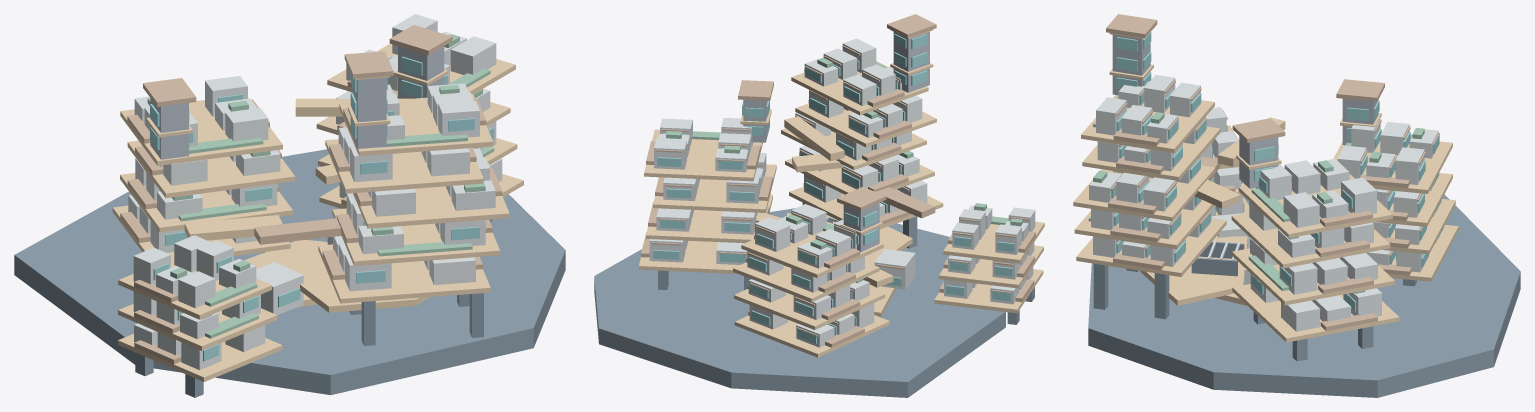
3 renders of one model, left to right at view 1: azimuth 30°, elevation 25°; view 2: azimuth 150°, elevation 25°; view 3: azimuth 270°, elevation 25°, orthographic. The views are drawn at different scales.
Visible parts, largest first — view 1: LIVING SKY CONFLUENCE; view 2: LIVING SKY CONFLUENCE; view 3: LIVING SKY CONFLUENCE.
Part boxes in pixels (<box>): LIVING SKY CONFLUENCE: <box>14,14,565,397</box>; LIVING SKY CONFLUENCE: <box>594,14,1044,397</box>; LIVING SKY CONFLUENCE: <box>1073,14,1520,397</box>.
Size of the model in its own units: 308 by 194 by 300.
